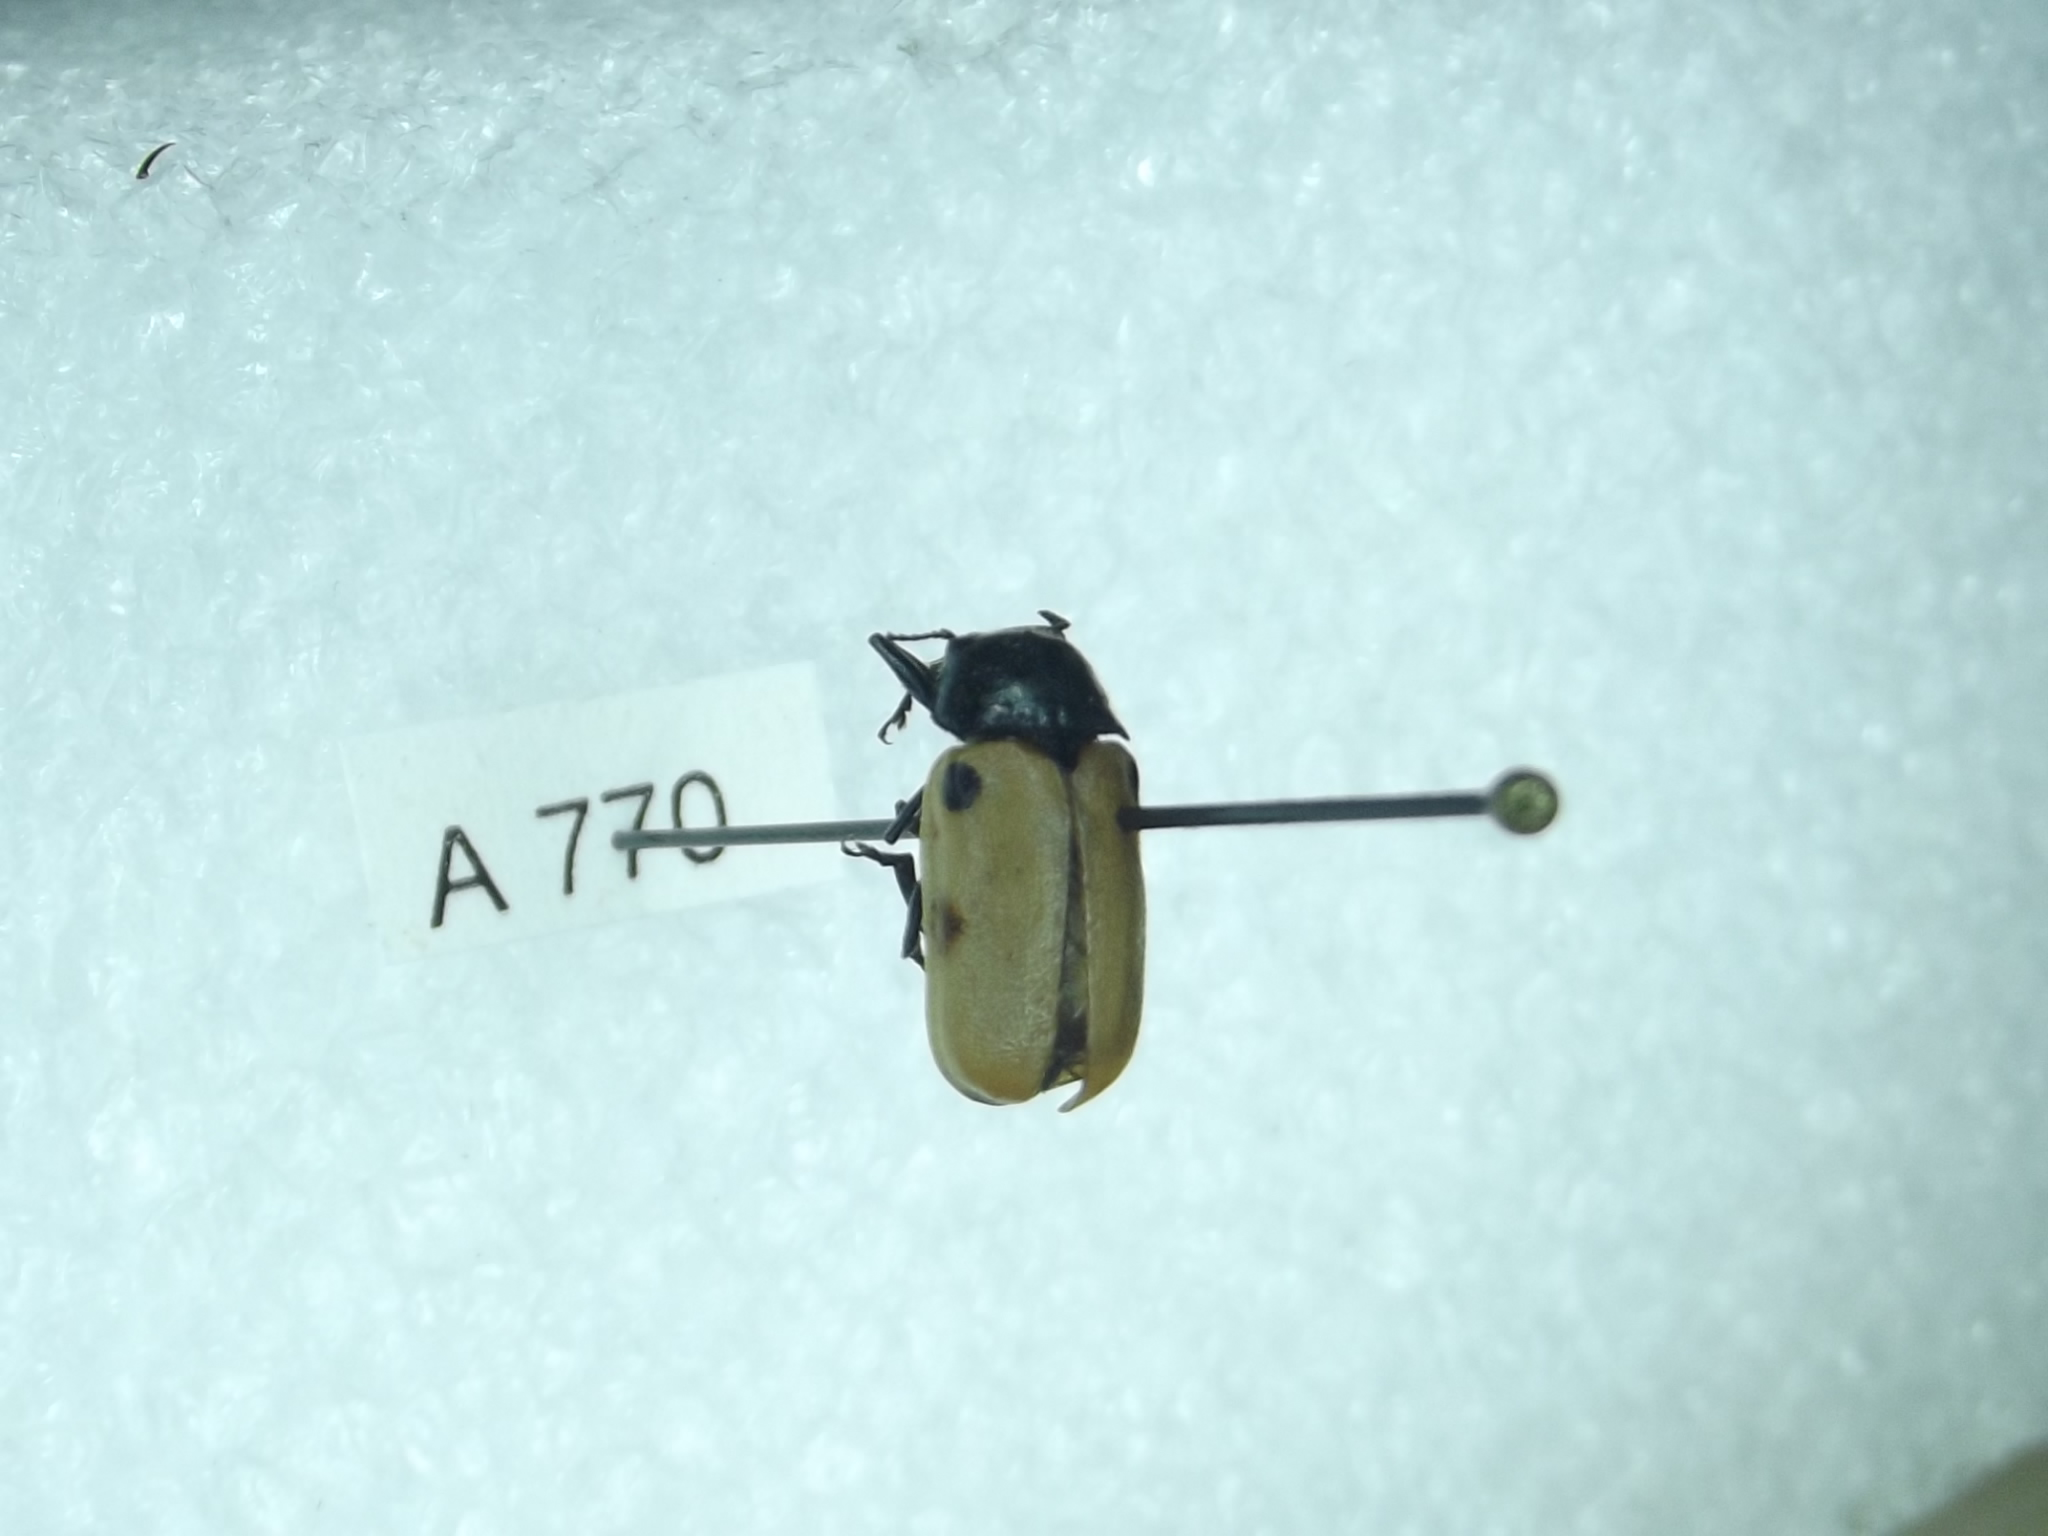Labidostomis_propinqua: (843, 595, 1151, 1121)
